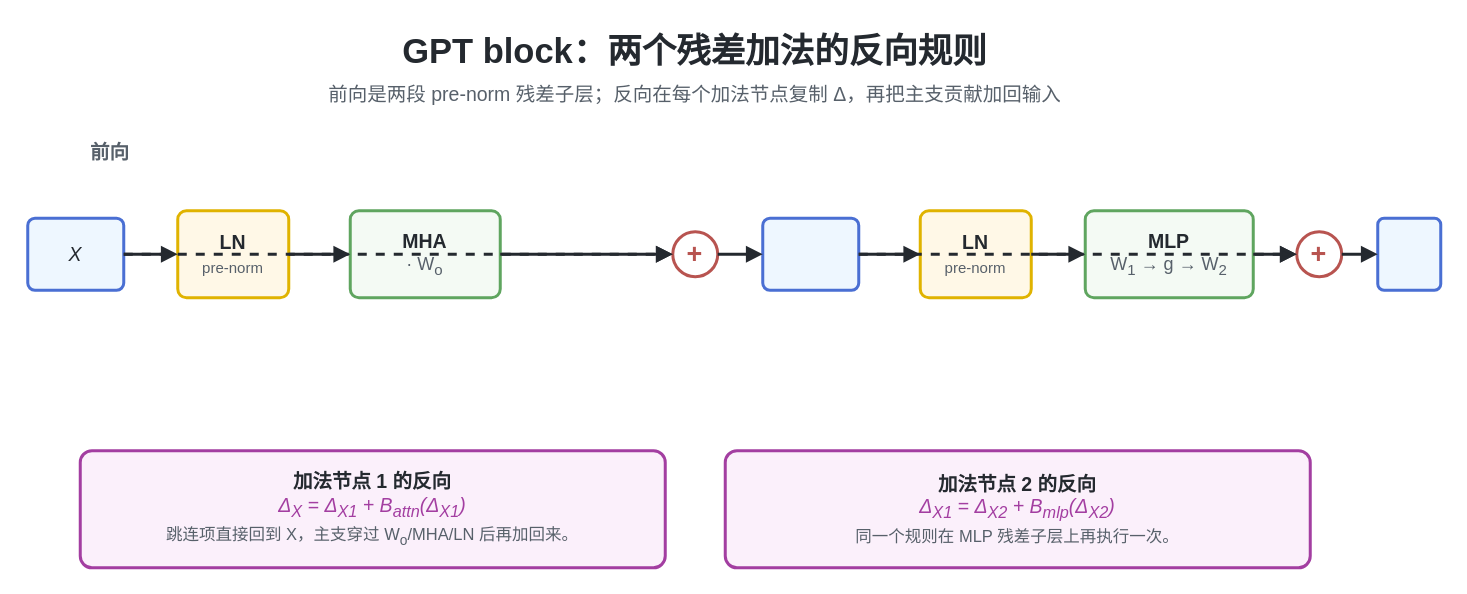
Some shapes in this 1467 by 594 pixel diagram are drawn without their labels. Here are the shapes that lost their labels. From the top down, the centre of each, then its label:
[810,253]: X 1
[1409,253]: X 2
